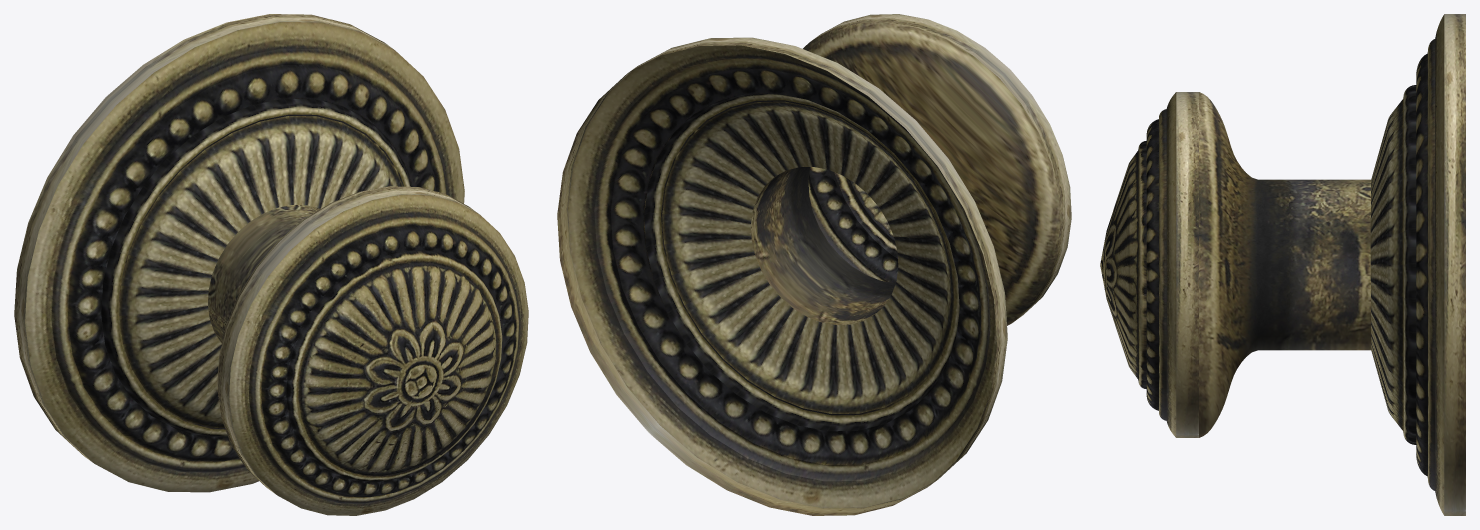
File: doorknob.fbx
3 renders of one model, left to right at view 1: azimuth 30°, elevation 25°; view 2: azimuth 150°, elevation 25°; view 3: azimuth 270°, elevation 25°, orthographic.
Parts seen in each view (by area): view 1: Group2, Group1, Group3; view 2: Group2, Group3, Group1; view 3: Group2, Group3, Group1.
Part boxes in pixels (box(x1,y1,x2,y2)): Group2: box(14, 14, 464, 492); Group1: box(218, 186, 528, 515); Group3: box(208, 186, 389, 417); Group2: box(557, 37, 1007, 515); Group3: box(751, 22, 1060, 325); Group1: box(808, 14, 1071, 322); Group2: box(1370, 14, 1465, 515); Group3: box(1199, 92, 1371, 437); Group1: box(1100, 92, 1198, 437).
Bounding box in the file's own units: 238 × 236 × 171.
